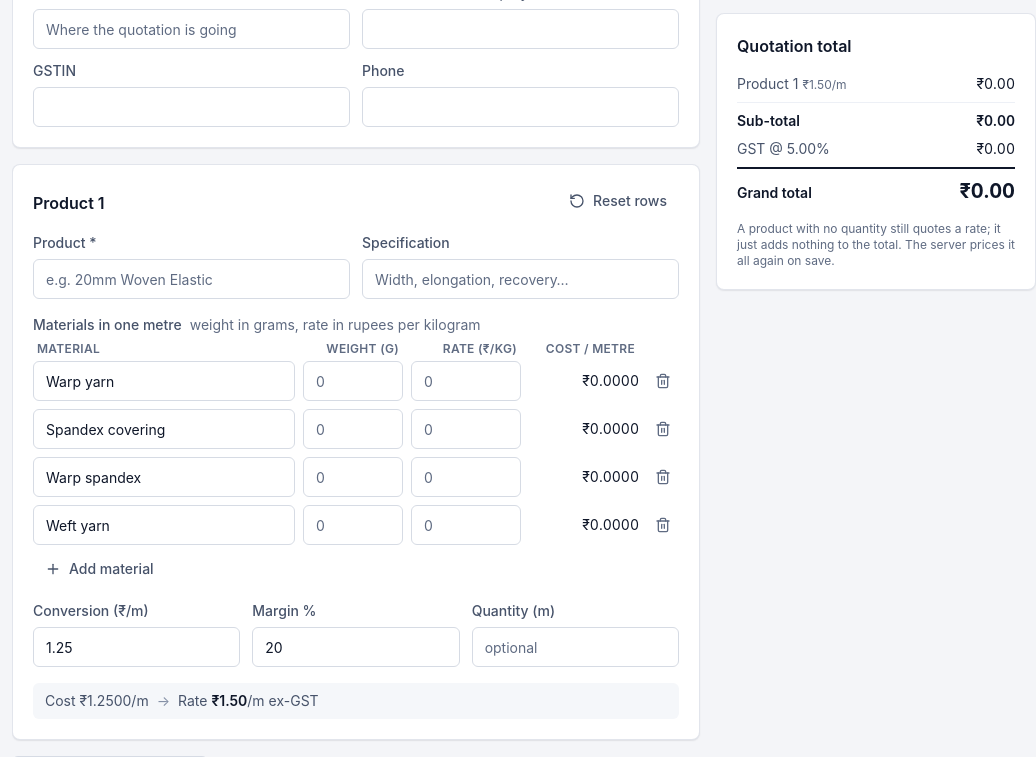
it: the price as you type › shows the rate before anything is saved
(page scrolled)
Type "4.2" into the 1st number field with placeholder "0" at coordinates (353, 381), box [303, 361, 403, 401]
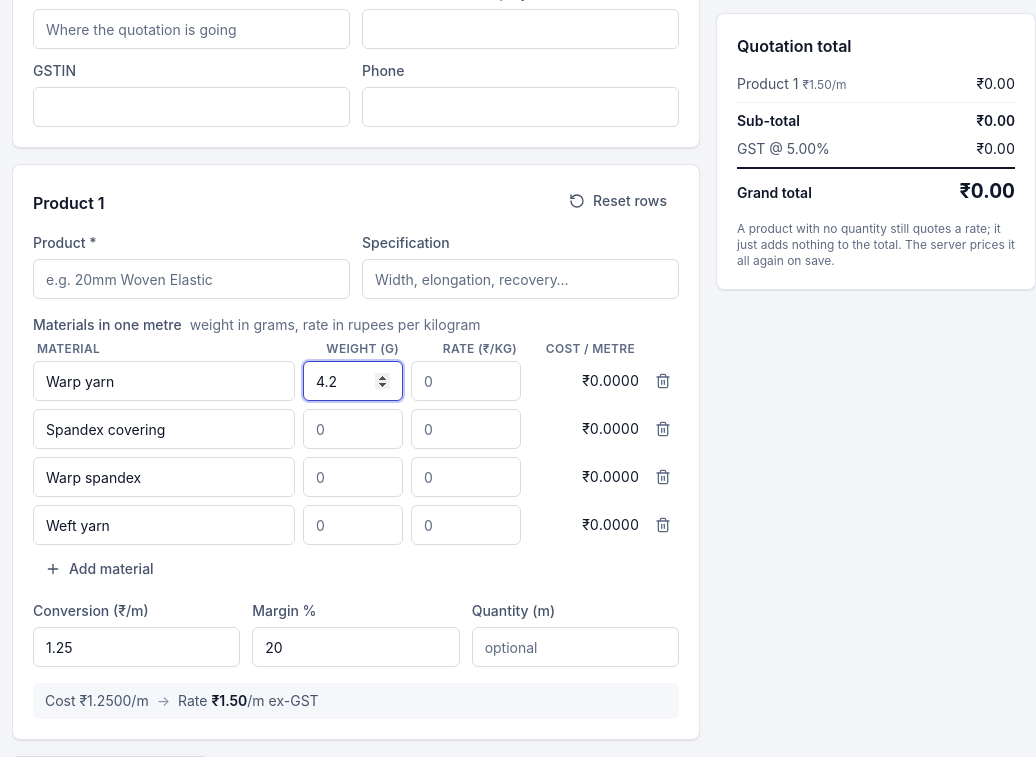
Type "240" into the 1st number field with placeholder "0" at coordinates (466, 381), box [411, 361, 521, 401]
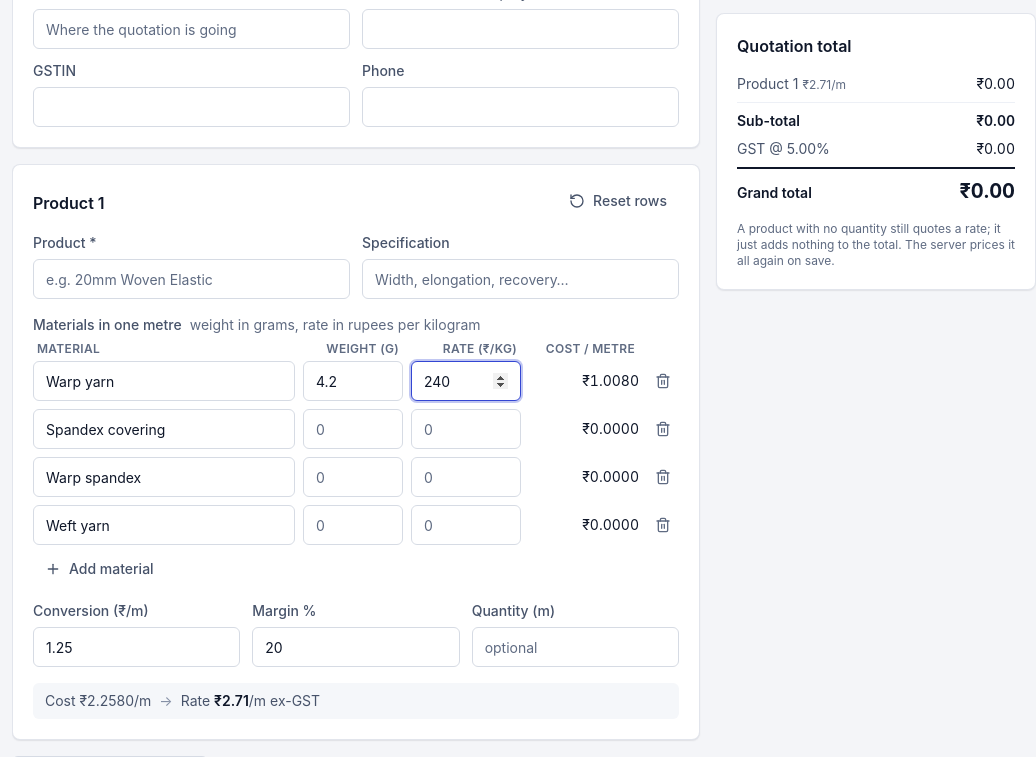
Expected: the text "₹2.71" is shown, [214, 692, 249, 709]
